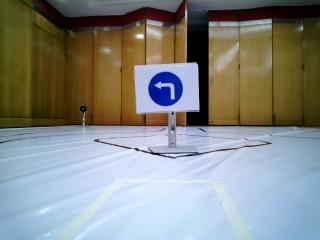left: (135, 66, 197, 106)
